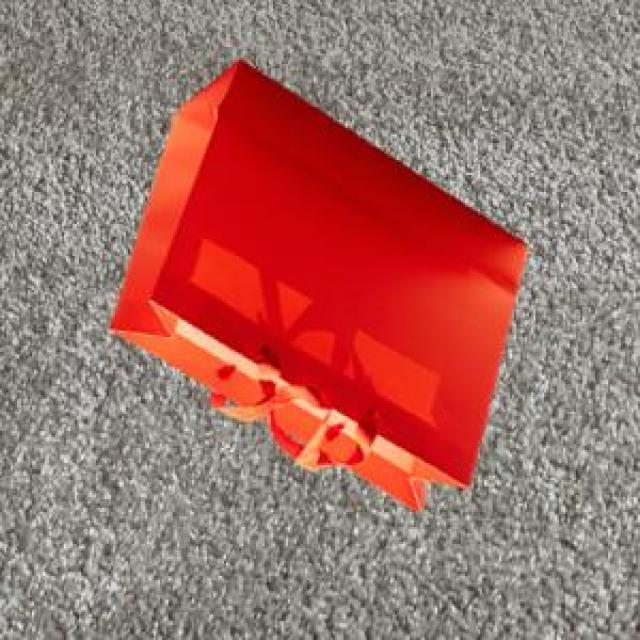paper: (105, 56, 523, 508)
